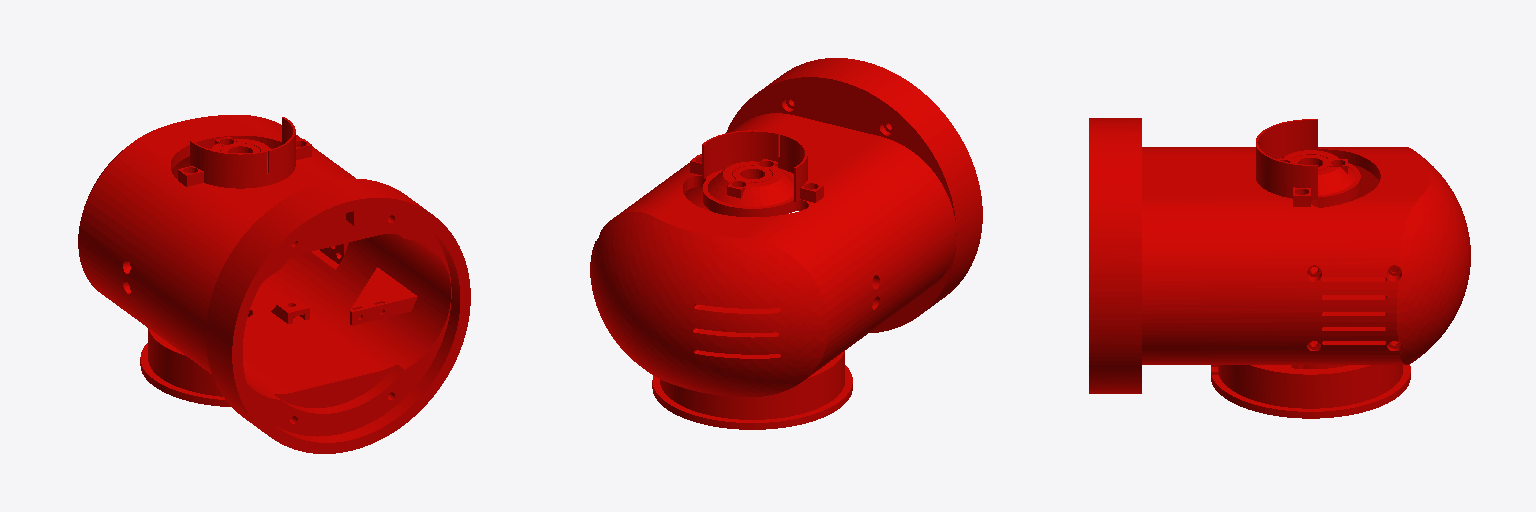
3 renders of one model, left to right at view 1: azimuth 30°, elevation 25°; view 2: azimuth 150°, elevation 25°; view 3: azimuth 270°, elevation 25°, orthographic.
Size of the model in its own units: 11 by 11 by 15.25.
Materials: 1 (1 with a texture image).